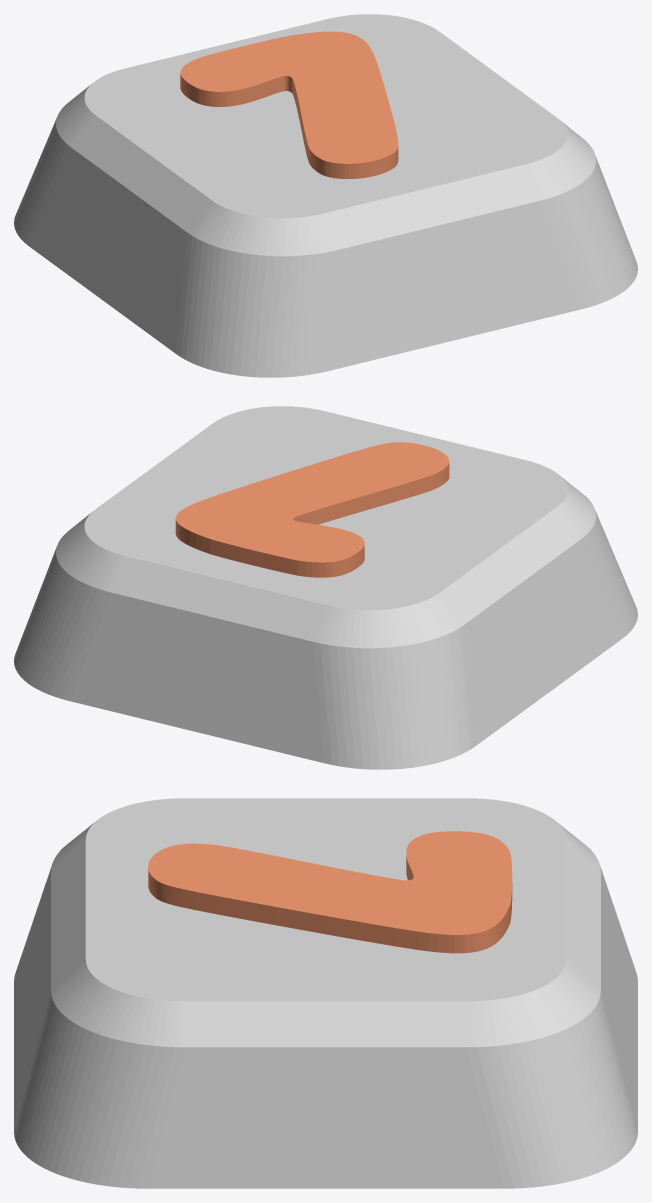
The model's file is cap-7.glb.
The picture shows the model from 3 angles, top to bottom: view 1: azimuth 30°, elevation 25°; view 2: azimuth 150°, elevation 25°; view 3: azimuth 270°, elevation 25°; orthographic projection. The views are drawn at different scales.
Visible parts, largest first — view 1: cap_0, glyph_1; view 2: cap_0, glyph_1; view 3: cap_0, glyph_1.
Boxes of the visible parts, x1,y1,x2,y2 form: cap_0: (14,14,637,377); glyph_1: (180,31,398,178); cap_0: (14,406,637,769); glyph_1: (175,442,449,577); cap_0: (14,798,637,1188); glyph_1: (148,831,512,953).
Bounding box in the file's own units: 18 × 5.59 × 18.
